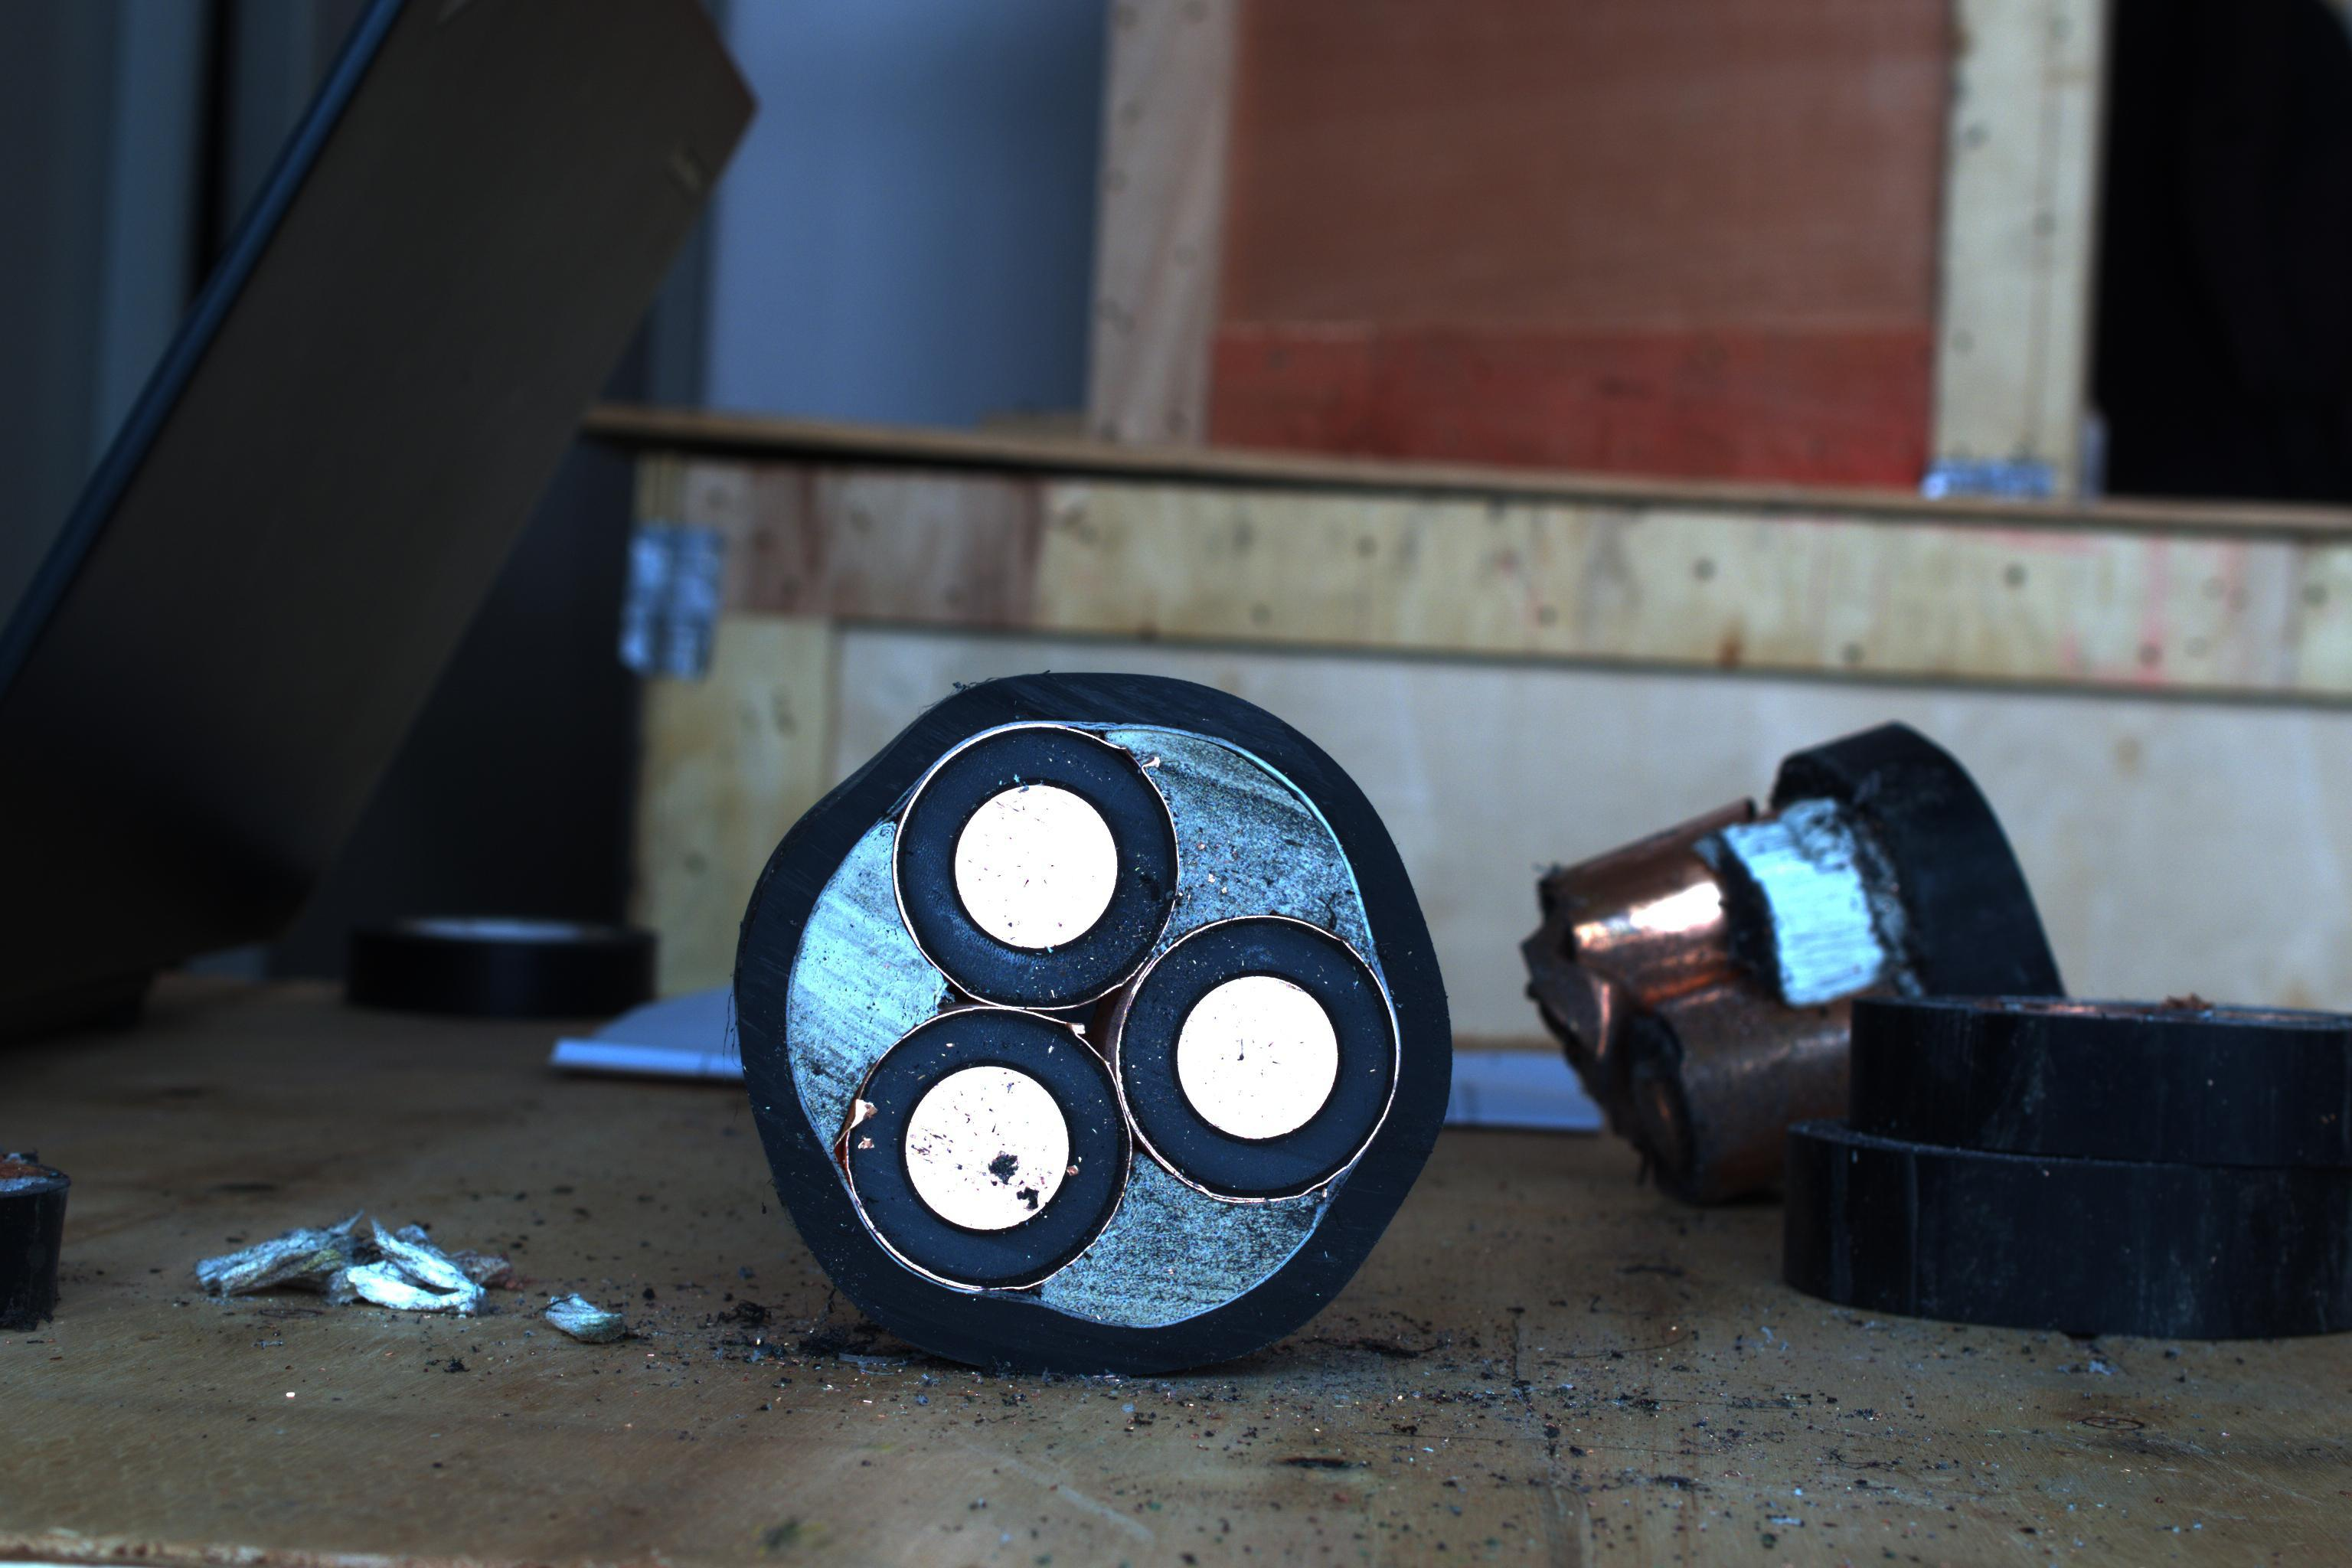ZA_YJV_8.7_10kV_3x240: (717, 677, 1463, 1367)
